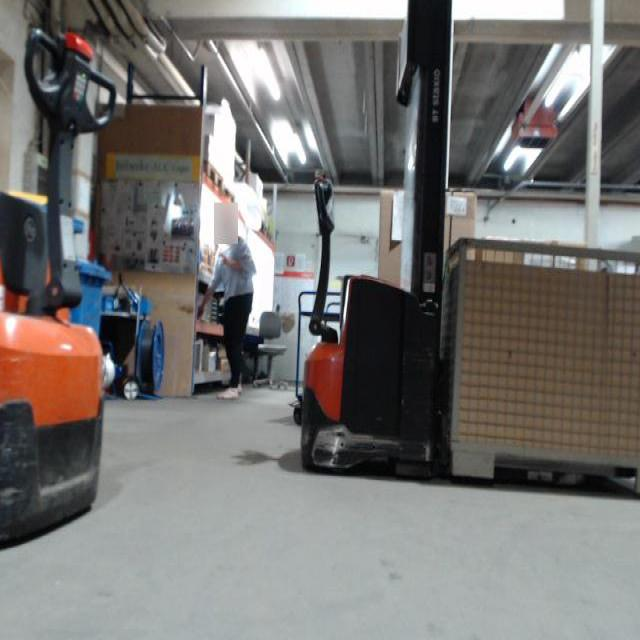pallet: (199, 162, 226, 193)
pallet_truck: (292, 1, 457, 485), (1, 19, 110, 562)
stillage: (439, 233, 638, 492)
